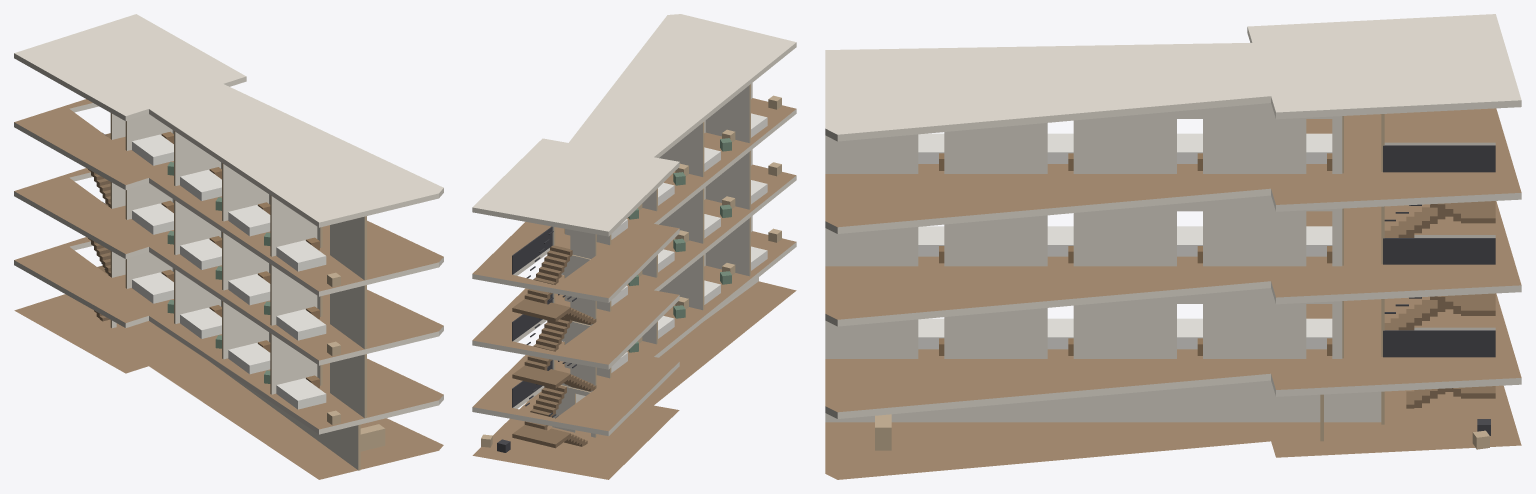
File: interior.glb
The picture shows the model from 3 angles, left to right: view 1: azimuth 30°, elevation 25°; view 2: azimuth 150°, elevation 25°; view 3: azimuth 270°, elevation 25°; orthographic projection. The views are drawn at different scales.
Parts seen in each view (by area): view 1: slabs, partitions, coarse-s2, coarse-s1, coarse-s3, stair, coarse-s0; view 2: slabs, partitions, stair, coarse-s2, coarse-s3, coarse-s1; view 3: slabs, partitions, stair, coarse-s1, coarse-s2, coarse-s3, coarse-s0.
Part boxes in pixels (left/top/right/bottom): slabs: left=14, top=14, right=443, bottom=479; partitions: left=110, top=113, right=366, bottom=470; coarse-s2: left=132, top=200, right=340, bottom=356; coarse-s1: left=132, top=269, right=340, bottom=425; coarse-s3: left=132, top=131, right=340, bottom=287; stair: left=88, top=133, right=111, bottom=321; coarse-s0: left=360, top=424, right=385, bottom=451; slabs: left=472, top=14, right=796, bottom=479; partitions: left=552, top=83, right=758, bottom=437; stair: left=512, top=226, right=596, bottom=448; coarse-s2: left=611, top=162, right=781, bottom=306; coarse-s3: left=611, top=95, right=781, bottom=239; coarse-s1: left=611, top=228, right=781, bottom=372; slabs: left=825, top=14, right=1521, bottom=479; partitions: left=825, top=103, right=1384, bottom=441; stair: left=1383, top=145, right=1495, bottom=408; coarse-s1: left=918, top=318, right=1332, bottom=355; coarse-s2: left=918, top=226, right=1332, bottom=263; coarse-s3: left=918, top=133, right=1332, bottom=170; coarse-s0: left=875, top=414, right=1490, bottom=450.
Size of the model in its own units: 9.87 by 13.18 by 24.06.
